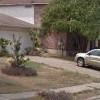Car: (68, 41, 100, 73)
